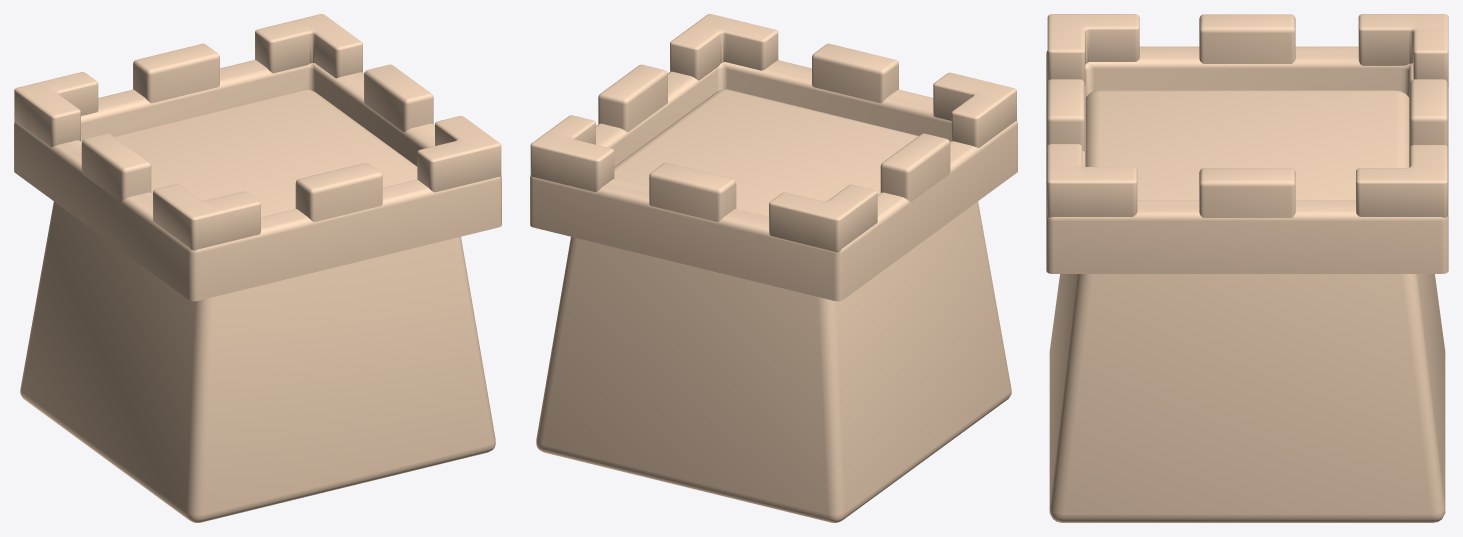
Rendered from obstacle.fbx.
The picture shows the model from 3 angles, left to right: view 1: azimuth 30°, elevation 25°; view 2: azimuth 150°, elevation 25°; view 3: azimuth 270°, elevation 25°; orthographic projection. The views are drawn at different scales.
Parts seen in each view (by area): view 1: Cube, Cube.001, Cube.007, Cube.009, Cube.008, Cube.006, Cube.005, Cube.004, Cube.002, Cube.003; view 2: Cube, Cube.001, Cube.006, Cube.008, Cube.009, Cube.007, Cube.004, Cube.005, Cube.002, Cube.003; view 3: Cube, Cube.001, Cube.009, Cube.008, Cube.006, Cube.007, Cube.003, Cube.002, Cube.004, Cube.005.
Boxes of the visible parts, <box> form: Cube: <box>20,89,495,522</box>; Cube.001: <box>14,60,501,301</box>; Cube.007: <box>153,184,260,250</box>; Cube.009: <box>255,14,362,78</box>; Cube.008: <box>417,116,501,192</box>; Cube.006: <box>14,72,98,147</box>; Cube.005: <box>295,163,382,221</box>; Cube.004: <box>133,43,219,103</box>; Cube.002: <box>81,133,151,202</box>; Cube.003: <box>364,64,433,132</box>; Cube: <box>536,89,1011,522</box>; Cube.001: <box>530,60,1017,301</box>; Cube.006: <box>769,184,877,252</box>; Cube.008: <box>670,14,778,80</box>; Cube.009: <box>530,115,614,191</box>; Cube.007: <box>933,72,1016,147</box>; Cube.004: <box>649,162,736,221</box>; Cube.005: <box>812,43,898,103</box>; Cube.002: <box>880,133,950,202</box>; Cube.003: <box>598,64,667,132</box>; Cube: <box>1049,90,1445,522</box>; Cube.001: <box>1046,46,1448,273</box>; Cube.009: <box>1356,144,1447,217</box>; Cube.008: <box>1047,144,1137,217</box>; Cube.006: <box>1358,14,1448,86</box>; Cube.007: <box>1047,14,1139,85</box>; Cube.003: <box>1199,168,1295,217</box>; Cube.002: <box>1199,14,1295,63</box>; Cube.004: <box>1410,79,1447,151</box>; Cube.005: <box>1047,79,1084,151</box>.
Bounding box in the file's own units: 257 × 244 × 257.
